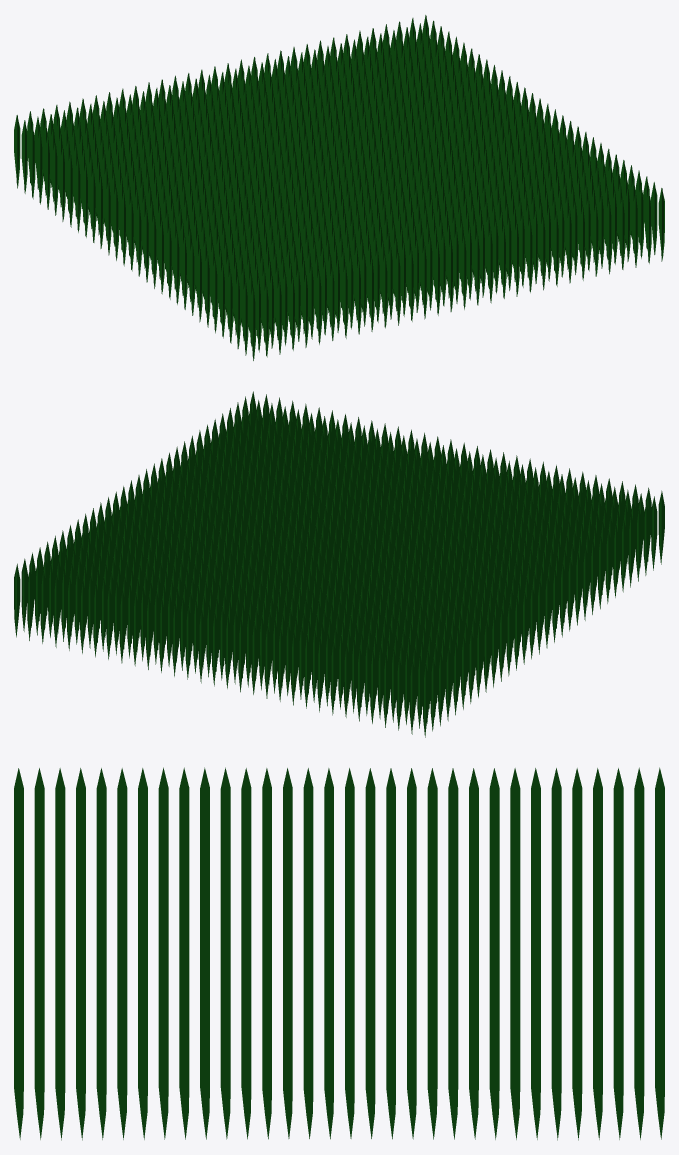
File: grass.gltf
3 renders of one model, top to bottom at view 1: azimuth 30°, elevation 25°; view 2: azimuth 150°, elevation 25°; view 3: azimuth 270°, elevation 25°, orthographic. The views are drawn at different scales.
Parts seen in each view (by area): view 1: grass; view 2: grass; view 3: grass.
Boxes of the visible parts, x1=… form: grass: x1=14, y1=15, x2=664, y2=360; grass: x1=14, y1=391, x2=664, y2=737; grass: x1=14, y1=767, x2=664, y2=1140.
Size of the model in its own units: 6.3 by 1.09 by 6.3.
